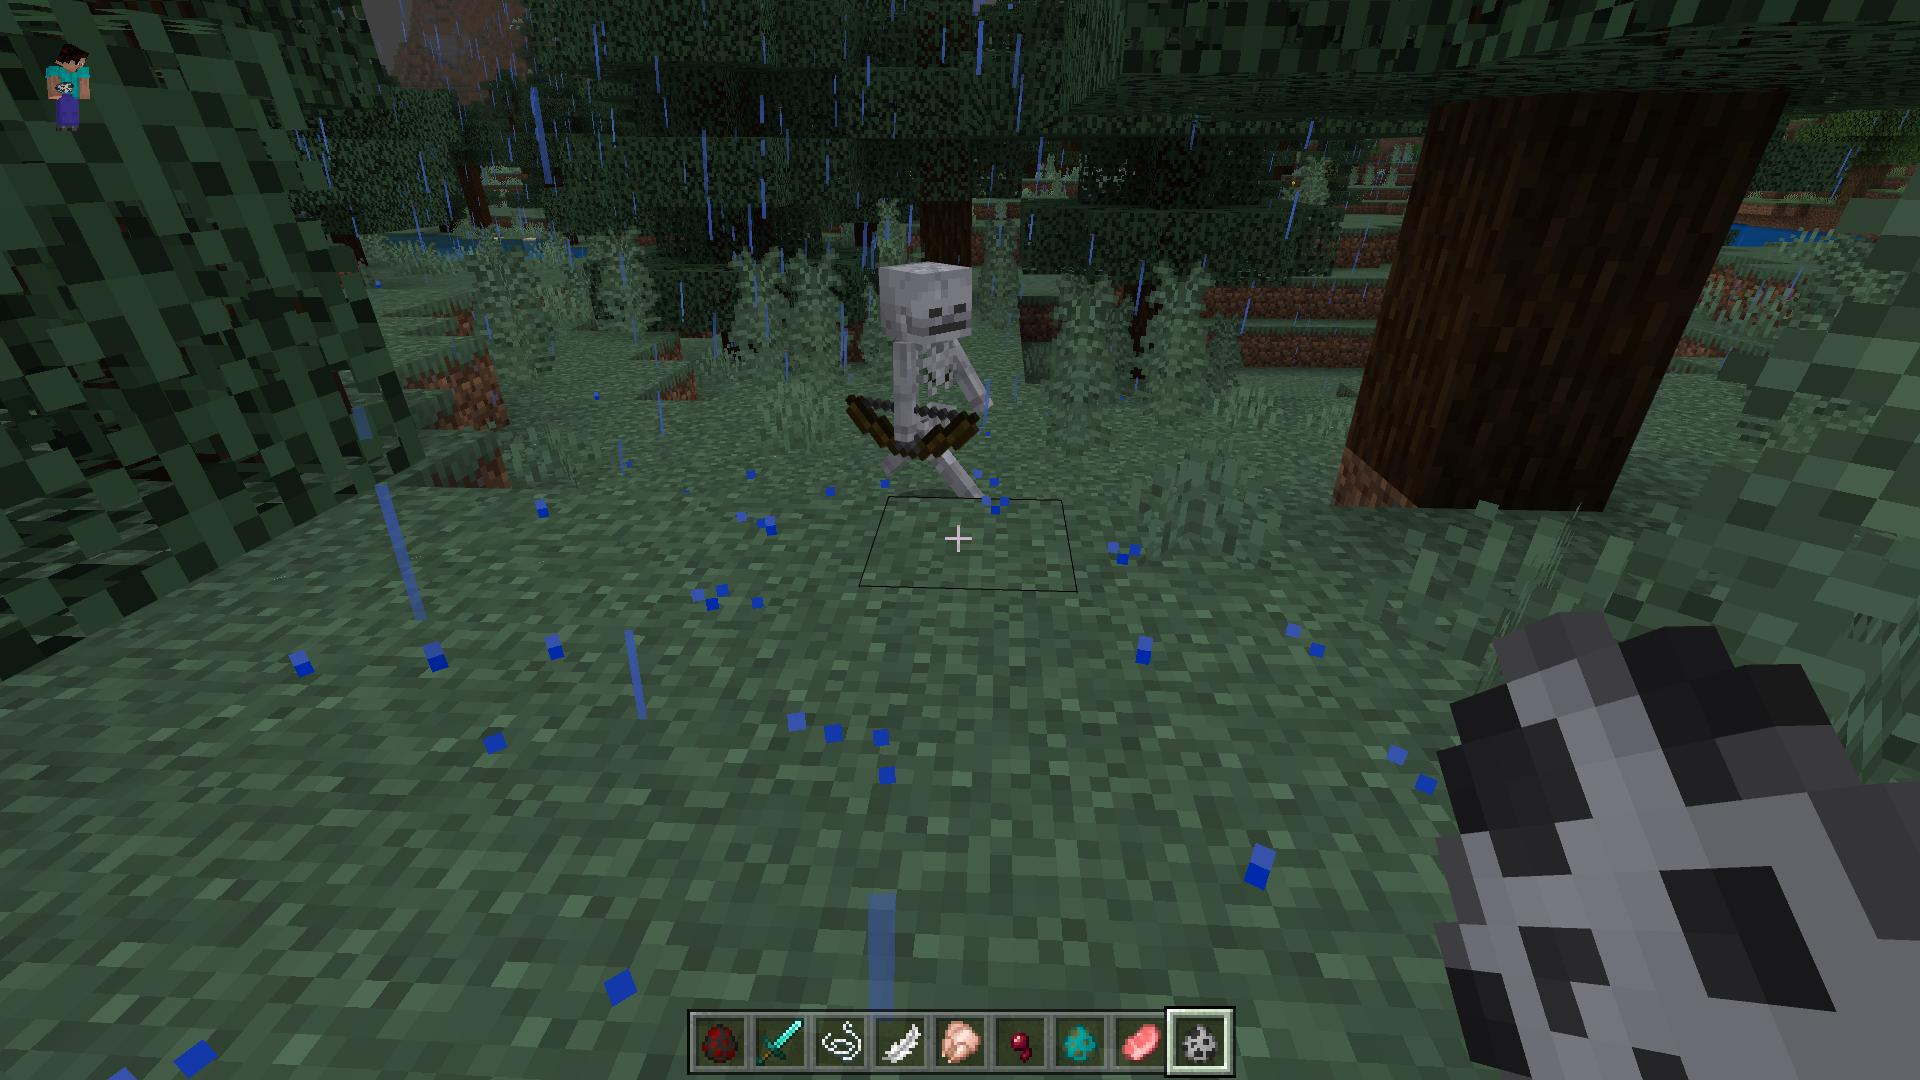skeleton: (872, 258, 988, 505)
